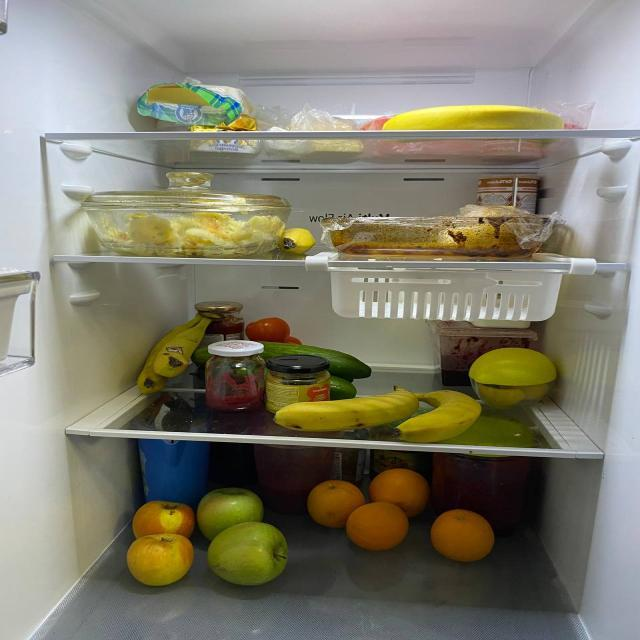Apple: (208, 524, 294, 587), (124, 536, 194, 585), (197, 489, 259, 538), (133, 497, 195, 538)
Banana: (272, 380, 482, 441), (128, 309, 222, 393), (378, 105, 578, 138), (278, 221, 320, 254)
Cucumber: (190, 344, 382, 368), (318, 377, 356, 397)
Orange: (429, 509, 503, 559), (363, 468, 438, 511), (347, 505, 405, 556), (312, 479, 364, 528)
Tomato: (246, 319, 288, 342), (283, 337, 305, 343)
